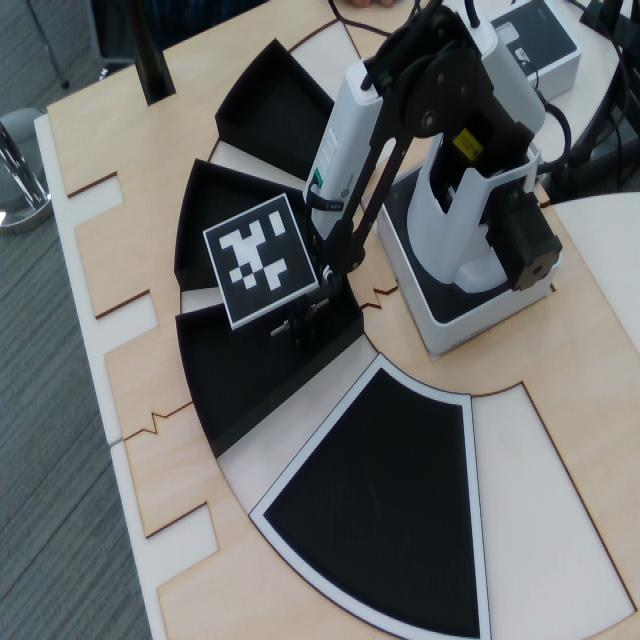board: (251, 356, 497, 640)
box: (155, 245, 391, 452), (209, 32, 397, 203), (169, 159, 352, 274)
